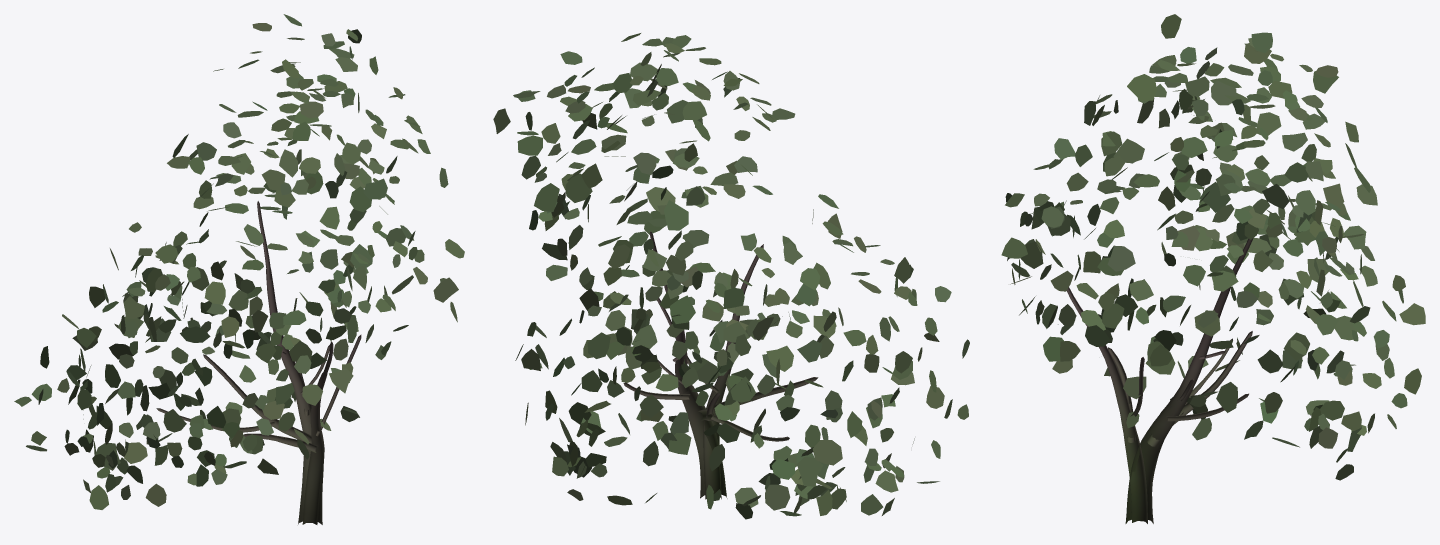
File: SM_TreeFar_willow_1.glb
The picture shows the model from 3 angles, left to right: view 1: azimuth 30°, elevation 25°; view 2: azimuth 150°, elevation 25°; view 3: azimuth 270°, elevation 25°; orthographic projection. The views are drawn at different scales.
Parts seen in each view (by area): view 1: SM_TreeFar_willow_1; view 2: SM_TreeFar_willow_1; view 3: SM_TreeFar_willow_1.
Part boxes in pixels (left/top/right/bottom): SM_TreeFar_willow_1: left=14, top=14, right=464, bottom=524; SM_TreeFar_willow_1: left=493, top=33, right=969, bottom=519; SM_TreeFar_willow_1: left=1001, top=14, right=1425, bottom=523.
Bounding box in the file's own units: 11.2 × 12.73 × 9.59.
